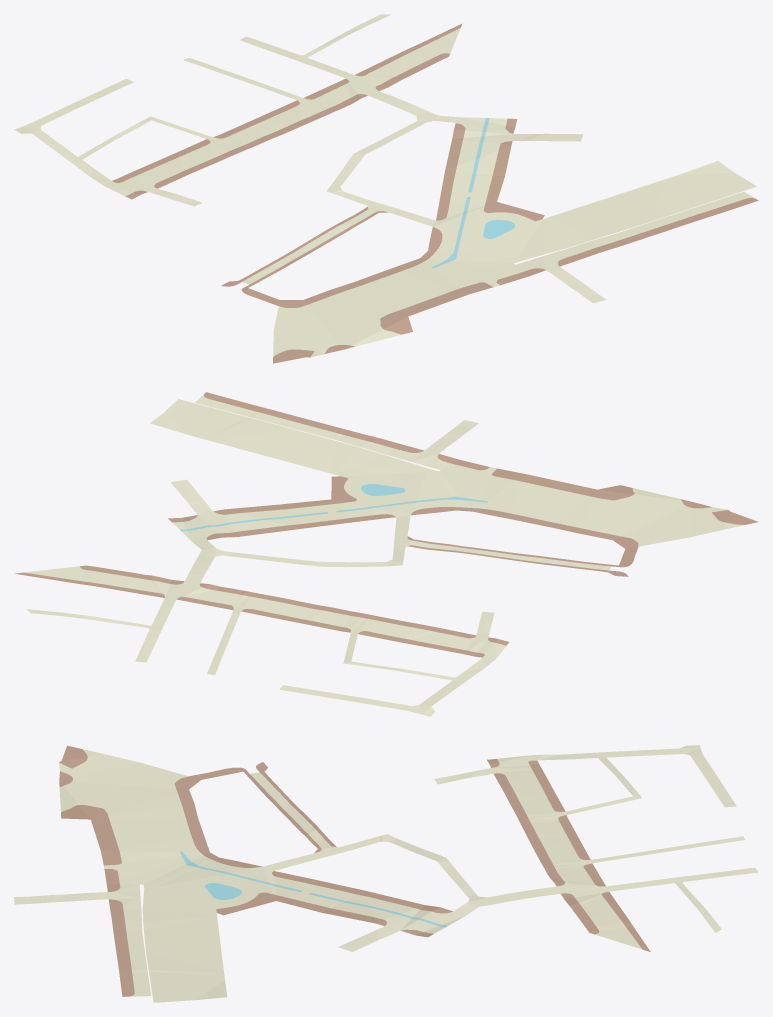
Rendered from data67.glb.
3 renders of one model, top to bottom at view 1: azimuth 30°, elevation 25°; view 2: azimuth 150°, elevation 25°; view 3: azimuth 270°, elevation 25°, orthographic. The views are drawn at different scales.
Size of the model in its own units: 308 by 19 by 347.
